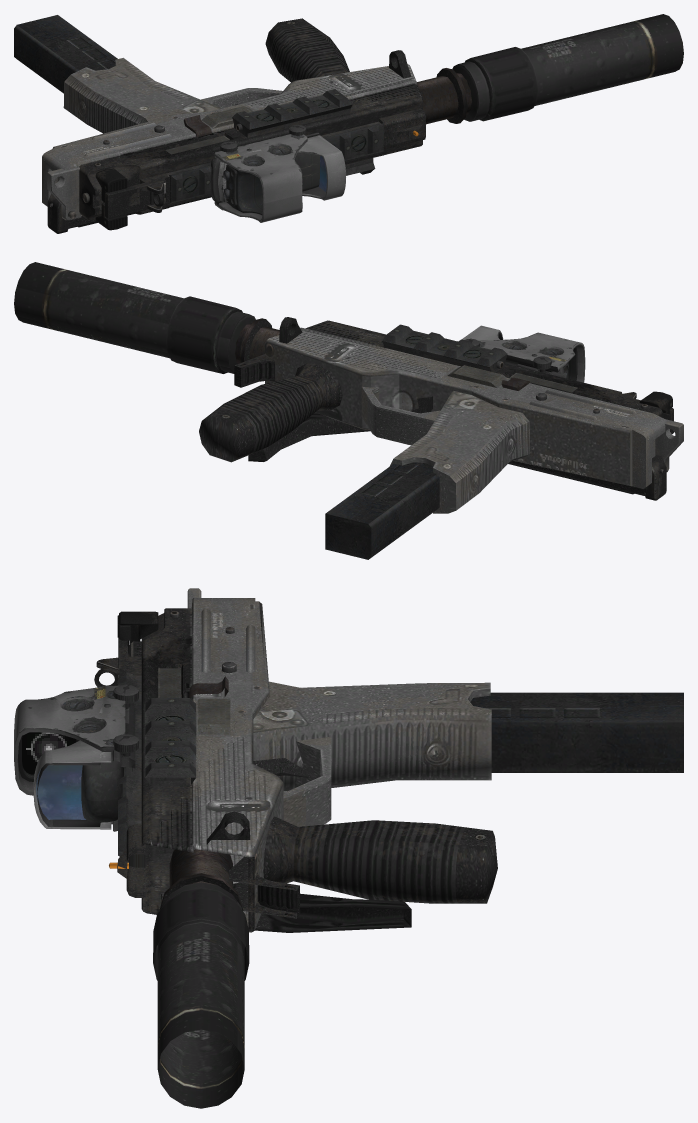
Rendered from viewmodel_mp9_desert_LOD0.obj.
The picture shows the model from 3 angles, top to bottom: view 1: azimuth 30°, elevation 25°; view 2: azimuth 150°, elevation 25°; view 3: azimuth 270°, elevation 25°; orthographic projection. The views are drawn at different scales.
Parts seen in each view (by area): view 1: mtl_weapon_mp9_desert, mtl_weapon_suppressor_b, mtl_weapon_eotech_2_desert, mtl_weapon_red_dot_sight_desert; view 2: mtl_weapon_mp9_desert, mtl_weapon_suppressor_b, mtl_weapon_eotech_2_desert, mtl_weapon_red_dot_sight_desert; view 3: mtl_weapon_mp9_desert, mtl_weapon_suppressor_b, mtl_weapon_eotech_2_desert, mtl_weapon_red_dot_sight_desert, mtl_weapon_reflex_lens, mtl_weapon_red_dot3.
Boxes of the visible parts, bbox=[...] form: mtl_weapon_mp9_desert: bbox=[14, 15, 471, 233]; mtl_weapon_suppressor_b: bbox=[452, 14, 683, 121]; mtl_weapon_eotech_2_desert: bbox=[214, 134, 319, 222]; mtl_weapon_red_dot_sight_desert: bbox=[210, 124, 345, 205]; mtl_weapon_mp9_desert: bbox=[199, 317, 683, 559]; mtl_weapon_suppressor_b: bbox=[14, 262, 255, 373]; mtl_weapon_eotech_2_desert: bbox=[478, 332, 585, 382]; mtl_weapon_red_dot_sight_desert: bbox=[457, 325, 566, 378]; mtl_weapon_mp9_desert: bbox=[94, 588, 683, 932]; mtl_weapon_suppressor_b: bbox=[153, 882, 249, 1108]; mtl_weapon_eotech_2_desert: bbox=[14, 685, 135, 824]; mtl_weapon_red_dot_sight_desert: bbox=[33, 684, 138, 831]; mtl_weapon_reflex_lens: bbox=[36, 765, 85, 819]; mtl_weapon_red_dot3: bbox=[22, 732, 76, 774].
Size of the model in its own units: 50.2 by 6.98 by 31.77.
